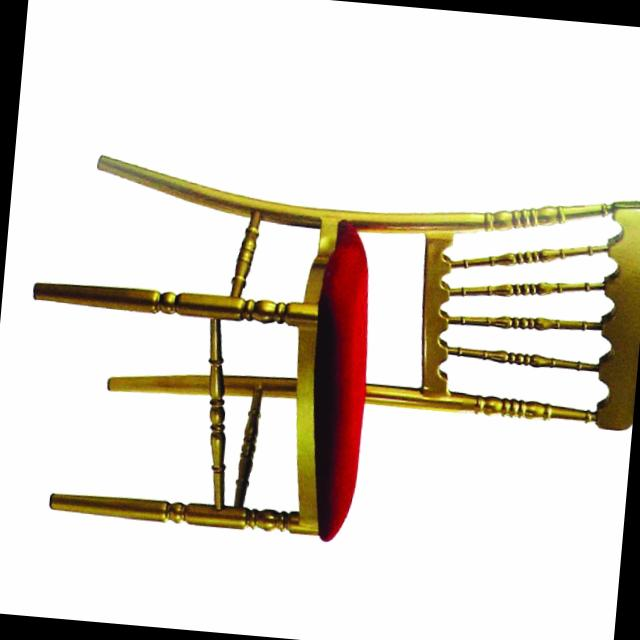Chair: (11, 146, 640, 570)
